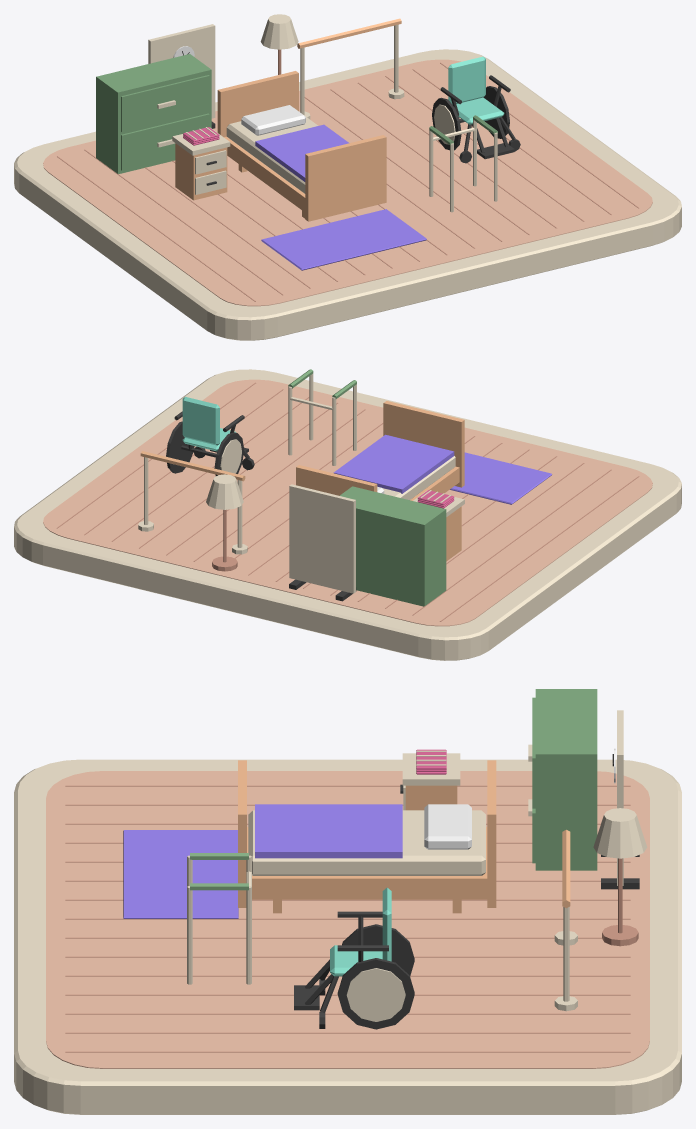
3 renders of one model, top to bottom at view 1: azimuth 30°, elevation 25°; view 2: azimuth 150°, elevation 25°; view 3: azimuth 270°, elevation 25°, orthographic. The views are drawn at different scales.
Visible parts, largest first — view 1: COM-02 Floor Surface, COM-01 Rounded Base Direct, Cabinet, End board, Rug, End board.001, Blanket, Panel, Mattress, Frame, Backrest, Body (+10 smaller); view 2: COM-02 Floor Surface, COM-01 Rounded Base Direct, Cabinet, Panel, Blanket, End board, Rug, Backrest, End board.001, Lamp shade, Rear wheel.001, Mattress (+4 smaller); view 3: COM-02 Floor Surface, COM-01 Rounded Base Direct, Cabinet, Rug, Blanket, Mattress, Frame, Push rim.001, Pillow, Lamp shade, Rear wheel.001, End board.001 (+20 smaller).
Part boxes in pixels (x1=…): COM-02 Floor Surface: x1=43, y1=59, x2=652, y2=306; COM-01 Rounded Base Direct: x1=14, y1=49, x2=681, y2=340; Cabinet: x1=96, y1=54, x2=211, y2=173; End board: x1=305, y1=135, x2=386, y2=221; Rug: x1=261, y1=209, x2=426, y2=270; End board.001: x1=217, y1=71, x2=298, y2=137; Blanket: x1=255, y1=124, x2=349, y2=181; Panel: x1=148, y1=24, x2=215, y2=118; Mattress: x1=226, y1=109, x2=318, y2=193; Frame: x1=224, y1=136, x2=305, y2=212; Backrest: x1=448, y1=56, x2=485, y2=104; Body: x1=175, y1=143, x2=227, y2=200; COM-02 Floor Surface: x1=43, y1=379, x2=652, y2=626; COM-01 Rounded Base Direct: x1=14, y1=369, x2=681, y2=660; Cabinet: x1=339, y1=486, x2=446, y2=606; Panel: x1=289, y1=484, x2=355, y2=593; Blanket: x1=333, y1=434, x2=454, y2=493; End board: x1=383, y1=401, x2=464, y2=487; Rug: x1=450, y1=452, x2=551, y2=504; Backrest: x1=182, y1=396, x2=219, y2=445; End board.001: x1=296, y1=465, x2=377, y2=495; Lamp shade: x1=206, y1=474, x2=243, y2=509; Rear wheel.001: x1=166, y1=421, x2=194, y2=473; Mattress: x1=382, y1=456, x2=455, y2=500; COM-02 Floor Surface: x1=46, y1=771, x2=649, y2=1068; COM-01 Rounded Base Direct: x1=14, y1=759, x2=681, y2=1114; Cabinet: x1=528, y1=689, x2=597, y2=870; Rug: x1=123, y1=830, x2=238, y2=918; Blanket: x1=255, y1=804, x2=402, y2=858; Mattress: x1=248, y1=810, x2=485, y2=875; Frame: x1=247, y1=827, x2=487, y2=899; Push rim.001: x1=346, y1=968, x2=405, y2=1021; Pillow: x1=424, y1=804, x2=471, y2=849; Lamp shade: x1=593, y1=808, x2=647, y2=858; Rear wheel.001: x1=337, y1=958, x2=414, y2=1029; End board.001: x1=487, y1=760, x2=496, y2=907.
Size of the model in its own units: 6 by 1.48 by 5.2.
1 material, 1 textured.
